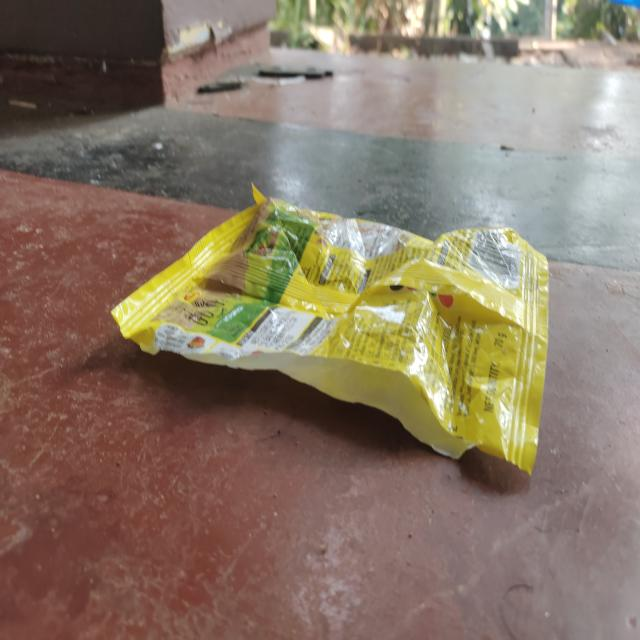plastic: (108, 174, 550, 477)
